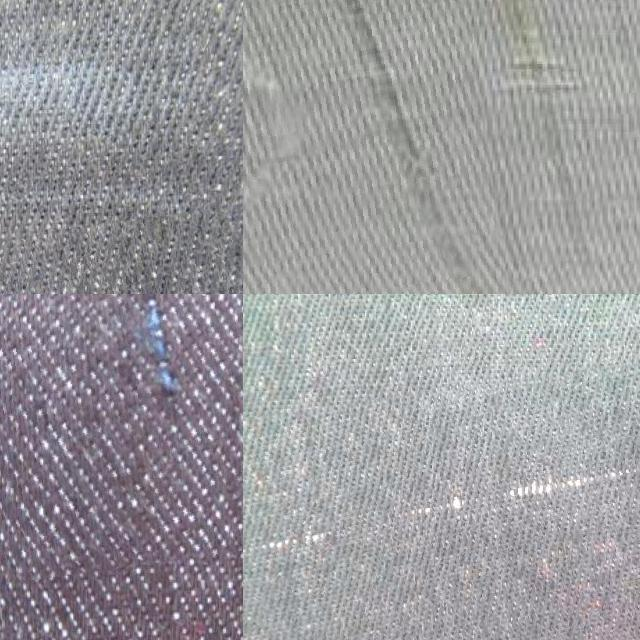Thread_other: (243, 357, 640, 640), (243, 0, 496, 294), (0, 294, 243, 573), (0, 210, 243, 294)
